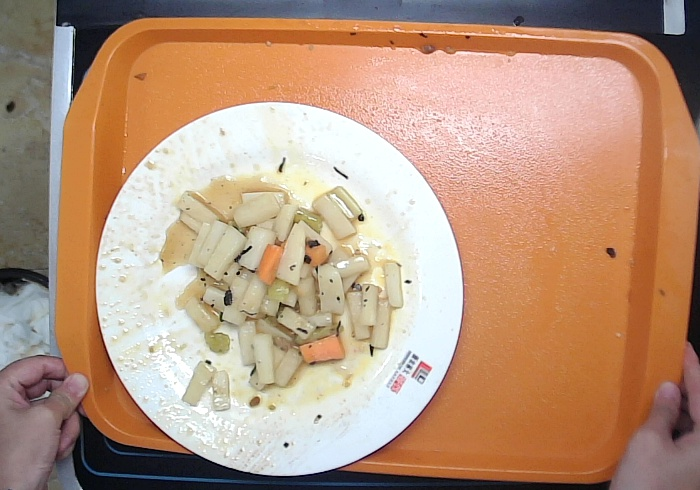ZNLD-Da_Yuan_Pan: (93, 98, 466, 478)
